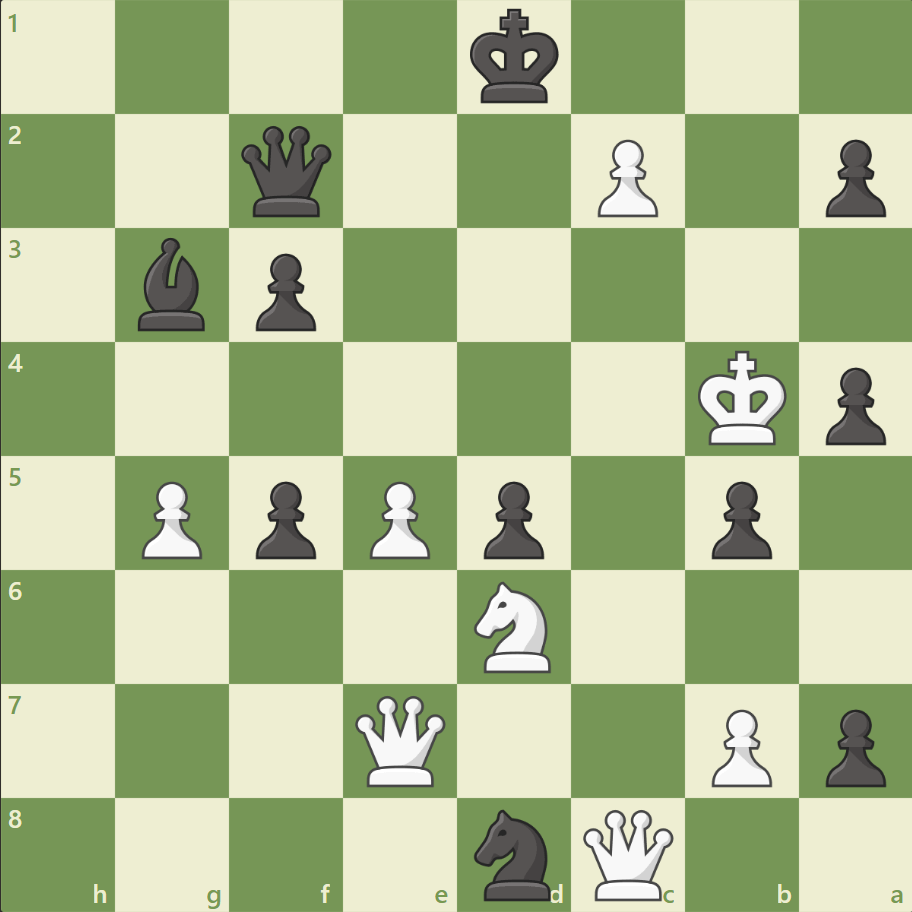K: (692, 344, 792, 452)
N: (465, 575, 562, 677)
P: (701, 700, 776, 791), (133, 473, 208, 564), (361, 473, 435, 564), (588, 132, 662, 223)
Q: (578, 804, 677, 903), (351, 690, 450, 789)
b: (131, 233, 215, 336)
k: (465, 4, 565, 112)
n: (465, 802, 562, 904)
p: (701, 473, 776, 564), (474, 473, 549, 564), (247, 473, 322, 564), (247, 246, 322, 337), (815, 700, 889, 791), (815, 359, 889, 450), (815, 132, 889, 223)
q: (237, 122, 336, 222)
